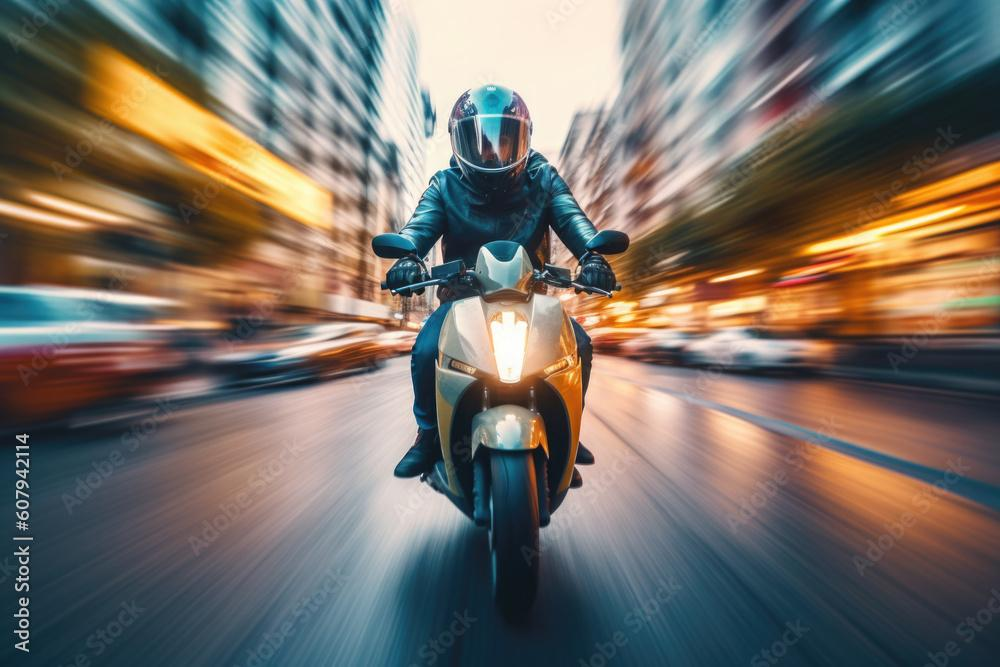helmet: (447, 83, 533, 194)
